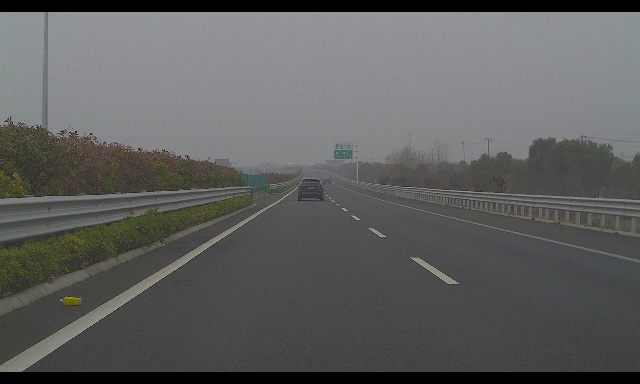car: (296, 177, 325, 201), (322, 177, 331, 184)
